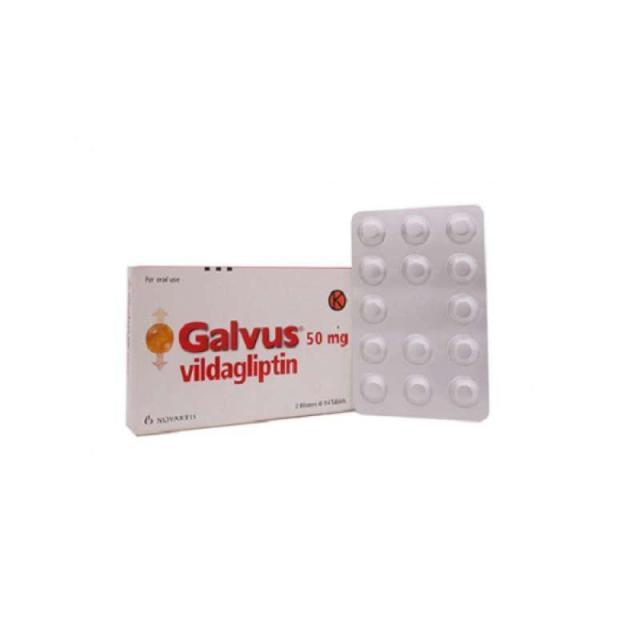drug-name: (179, 316, 302, 354)
